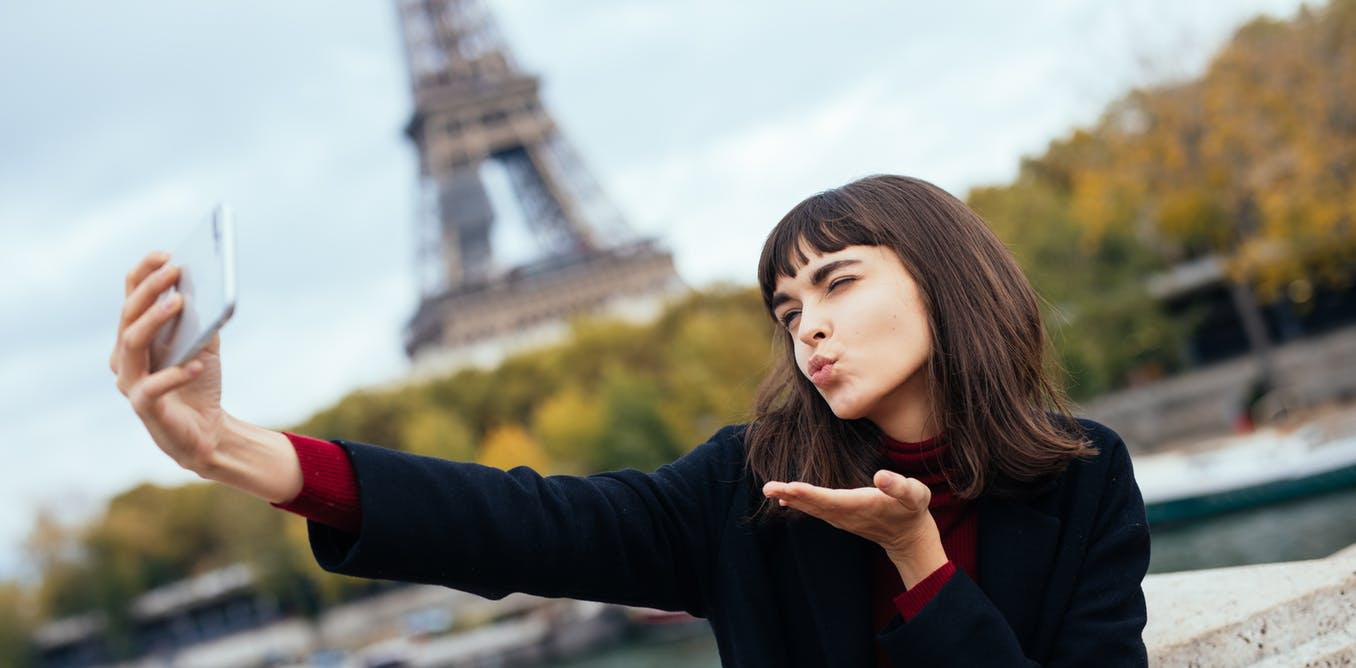face: (773, 239, 920, 421)
